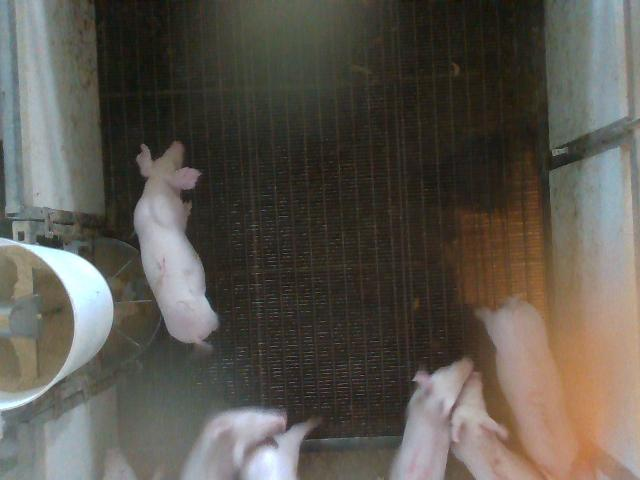pig-3: (476, 298, 595, 479)
pig-4: (390, 359, 472, 479)
pig-5: (451, 372, 542, 479)
